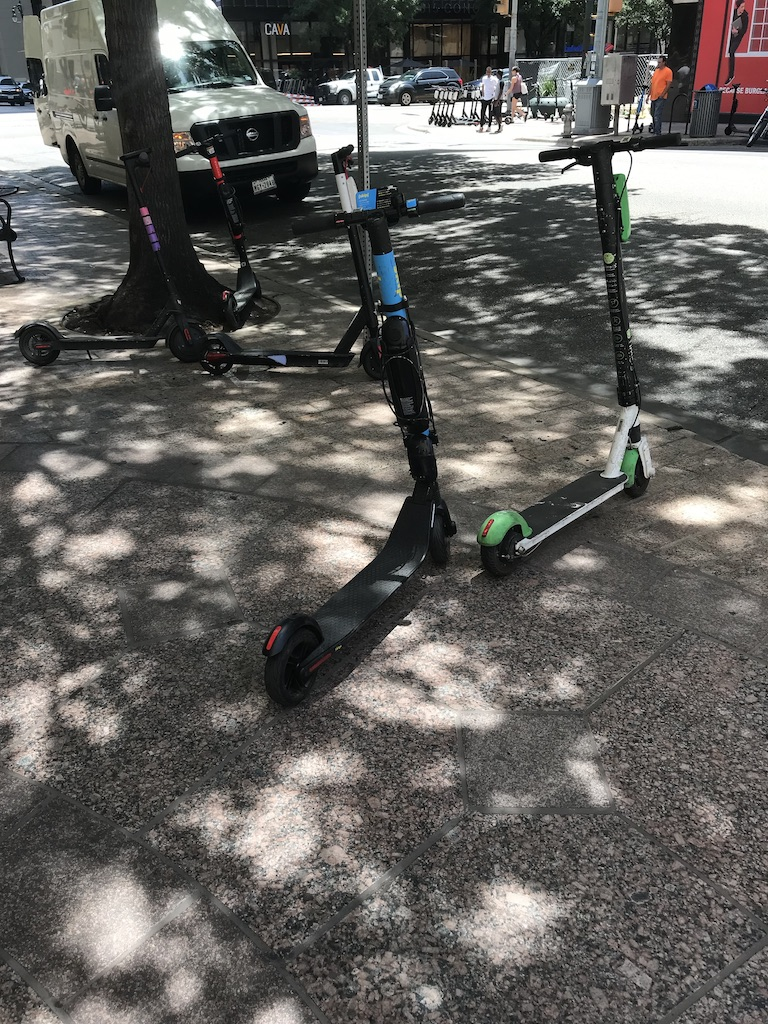scooter: (475, 131, 684, 579), (295, 187, 466, 530), (14, 147, 205, 366), (199, 226, 385, 379), (175, 128, 262, 329), (330, 146, 358, 212)
